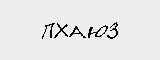А: (69, 22, 84, 40)
З: (105, 19, 120, 39)
П: (42, 21, 53, 39)
Х: (54, 20, 68, 38)
Ю: (88, 22, 107, 41)
